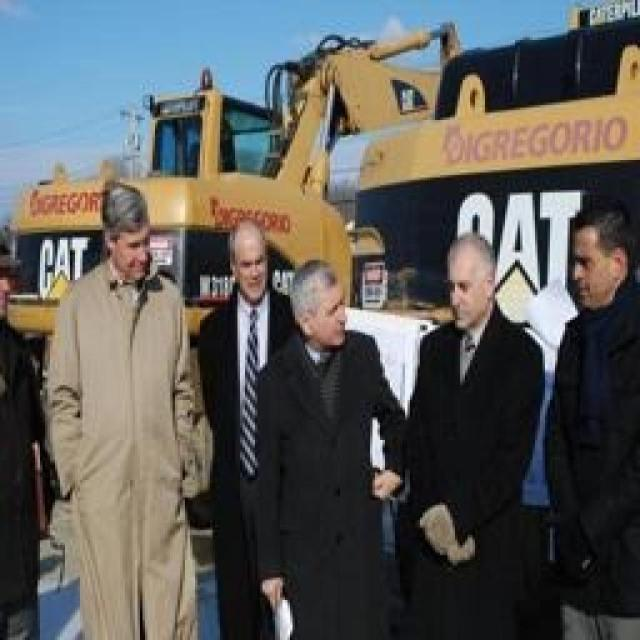Helmet: (58, 262, 202, 599), (412, 300, 540, 596), (535, 291, 640, 640), (268, 322, 382, 613), (189, 278, 295, 539), (427, 202, 505, 383), (550, 180, 640, 334), (0, 308, 55, 552), (82, 174, 180, 302), (280, 237, 374, 367), (207, 196, 277, 304), (1, 226, 34, 338)
